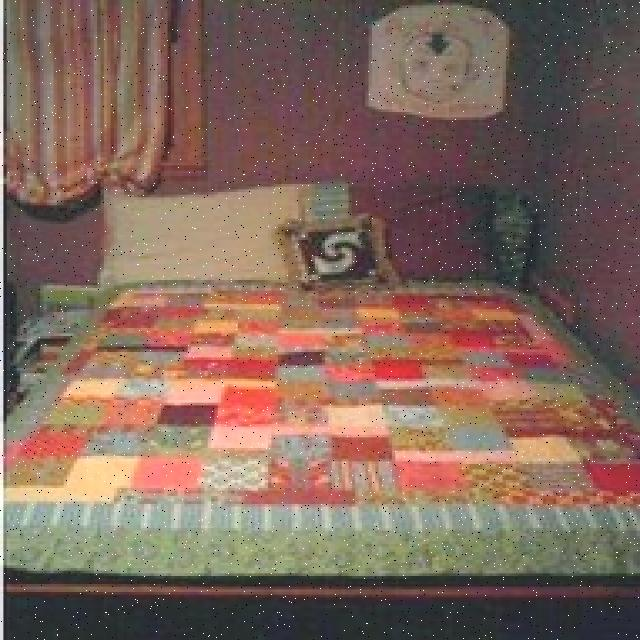bed: (7, 171, 640, 594)
